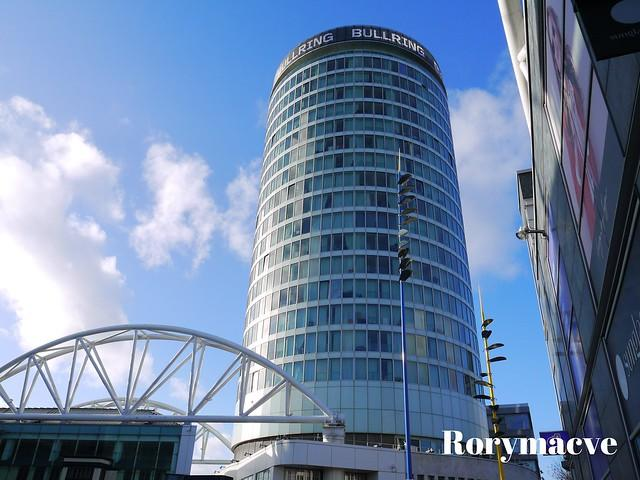building: (237, 24, 502, 478)
